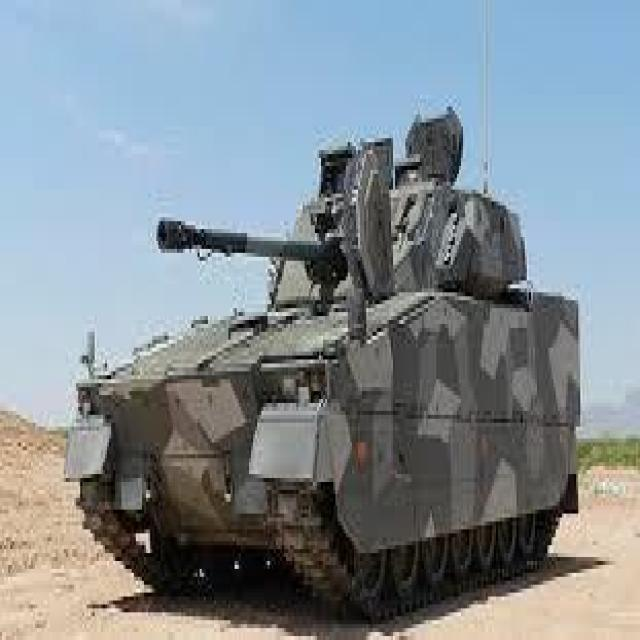Tanks: (59, 140, 579, 587)
